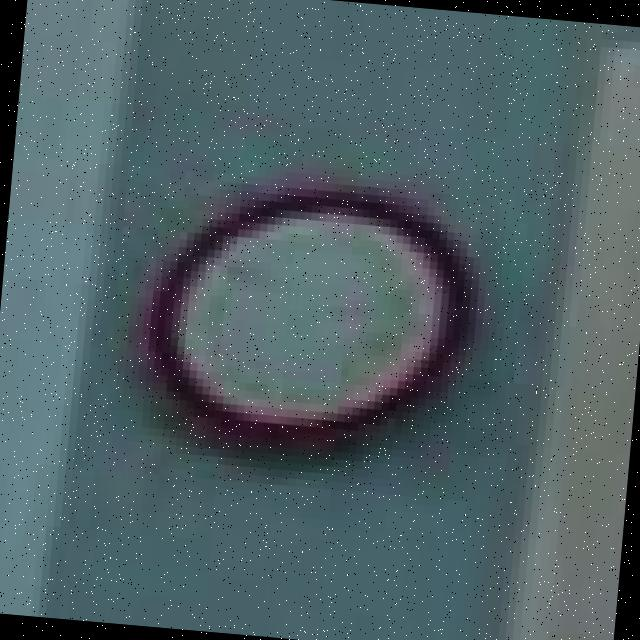Zakaz ruchu w obu kierunkach: (134, 168, 478, 462)
